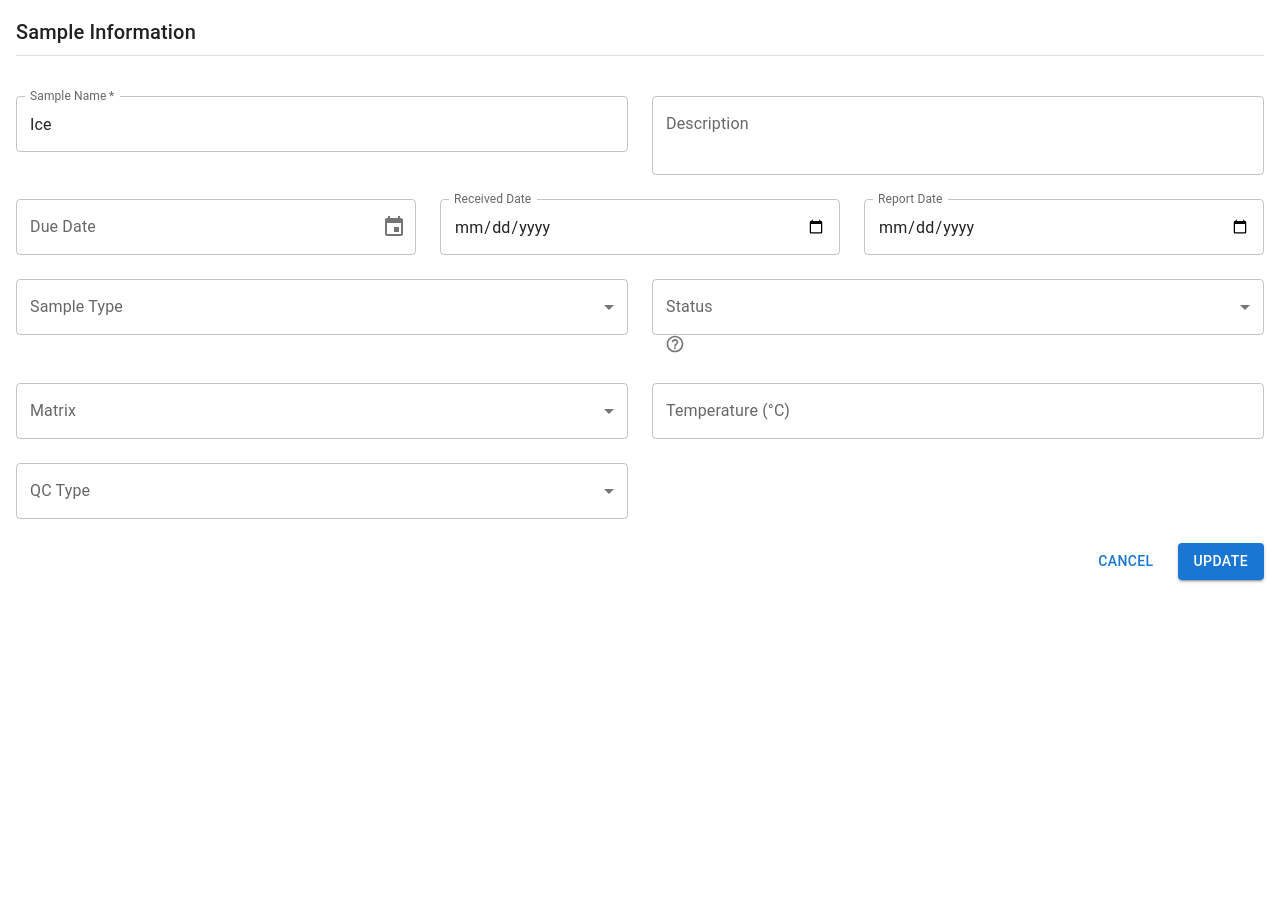
Scenario: SampleForm dates › shows the API sentence when a date is refused
Click the button with aria-label "Update sample": point(1221, 561) [1178,543,1264,580]
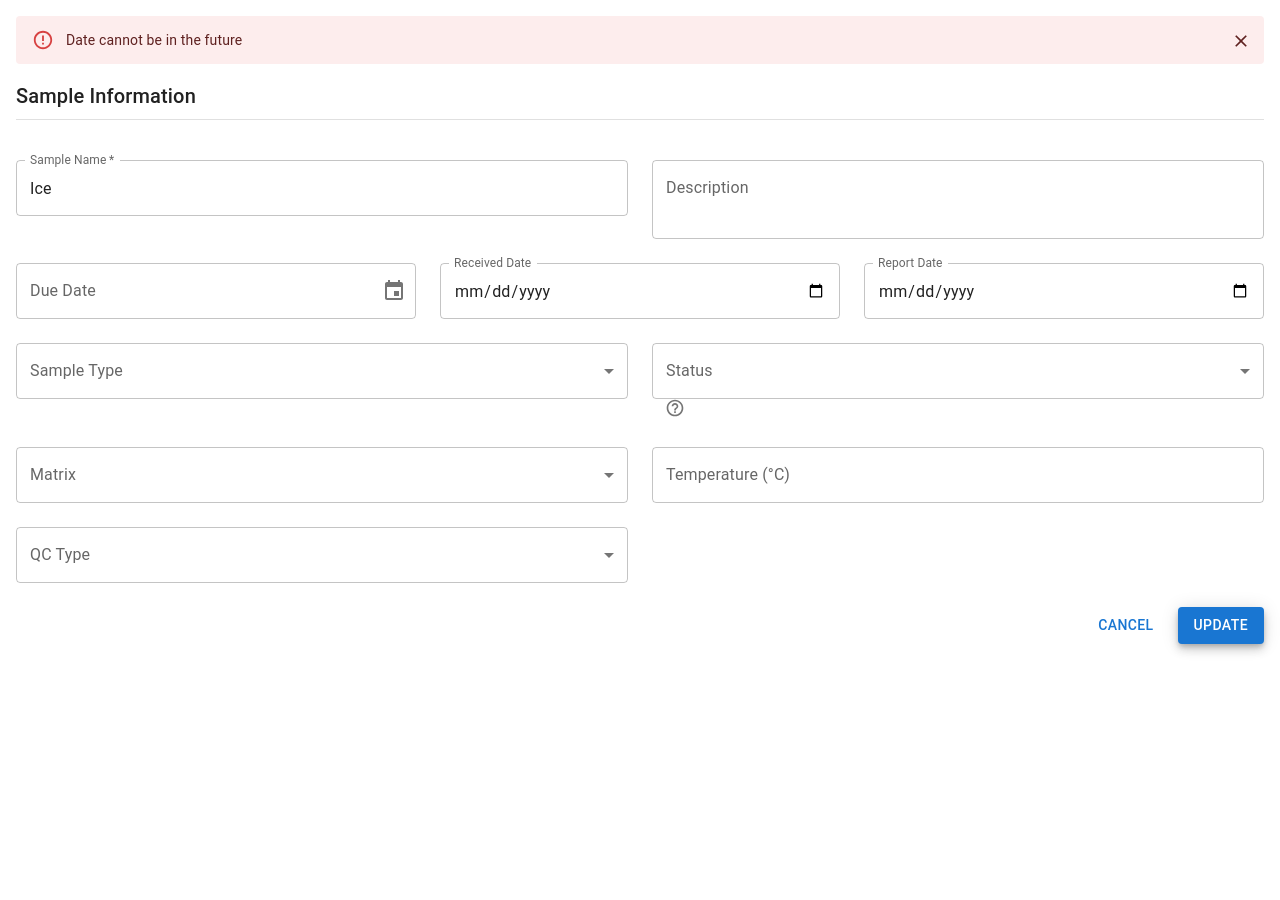
Expected: the text "Date cannot be in the future" is shown, [66,32,242,48]
